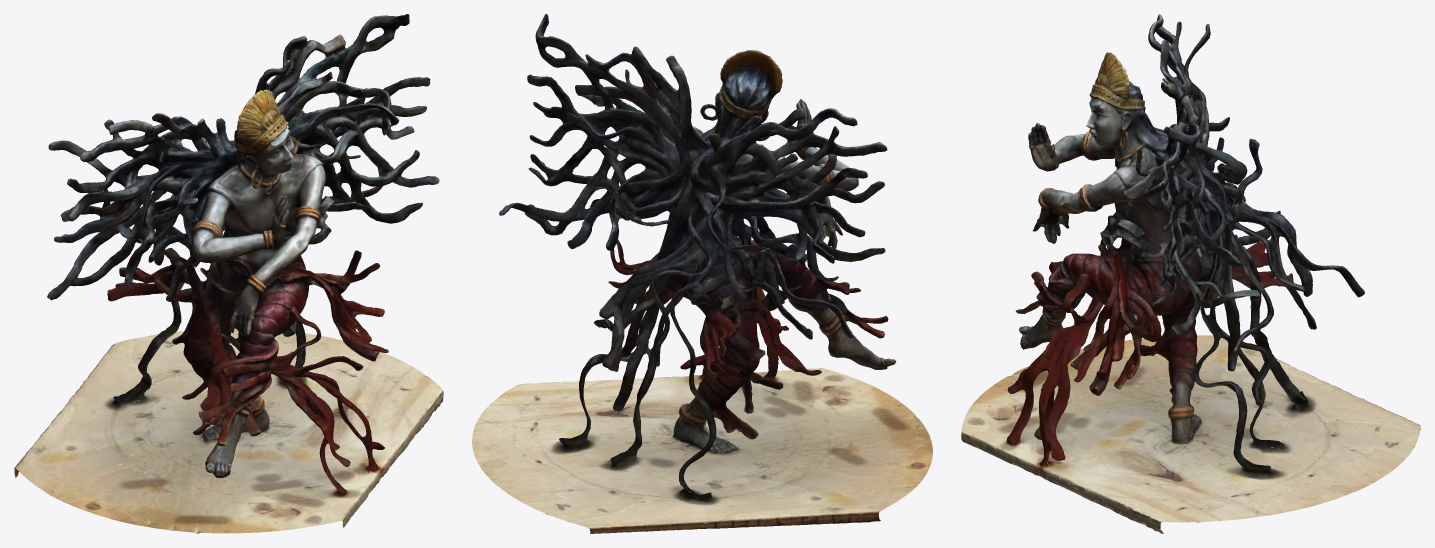
Rendered from dancing-shiva.glb.
3 renders of one model, left to right at view 1: azimuth 30°, elevation 25°; view 2: azimuth 150°, elevation 25°; view 3: azimuth 270°, elevation 25°, orthographic.
Visible parts, largest first — view 1: DancingShiva_export; view 2: DancingShiva_export; view 3: DancingShiva_export.
Part boxes in pixels (x1,y1,x2,y2): DancingShiva_export: [14, 14, 443, 533]; DancingShiva_export: [472, 14, 932, 533]; DancingShiva_export: [961, 14, 1420, 533].
Bounding box in the file's own units: 0.5252 × 0.5 × 0.5253.
Materials: 1 (1 with a texture image).
